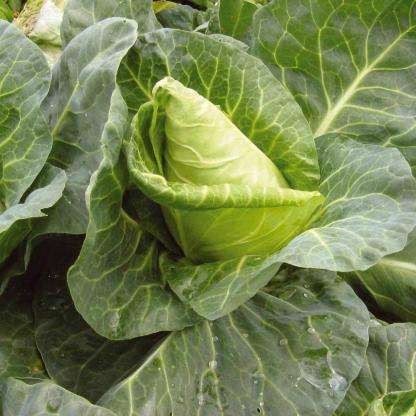---: (0, 4, 416, 416)
